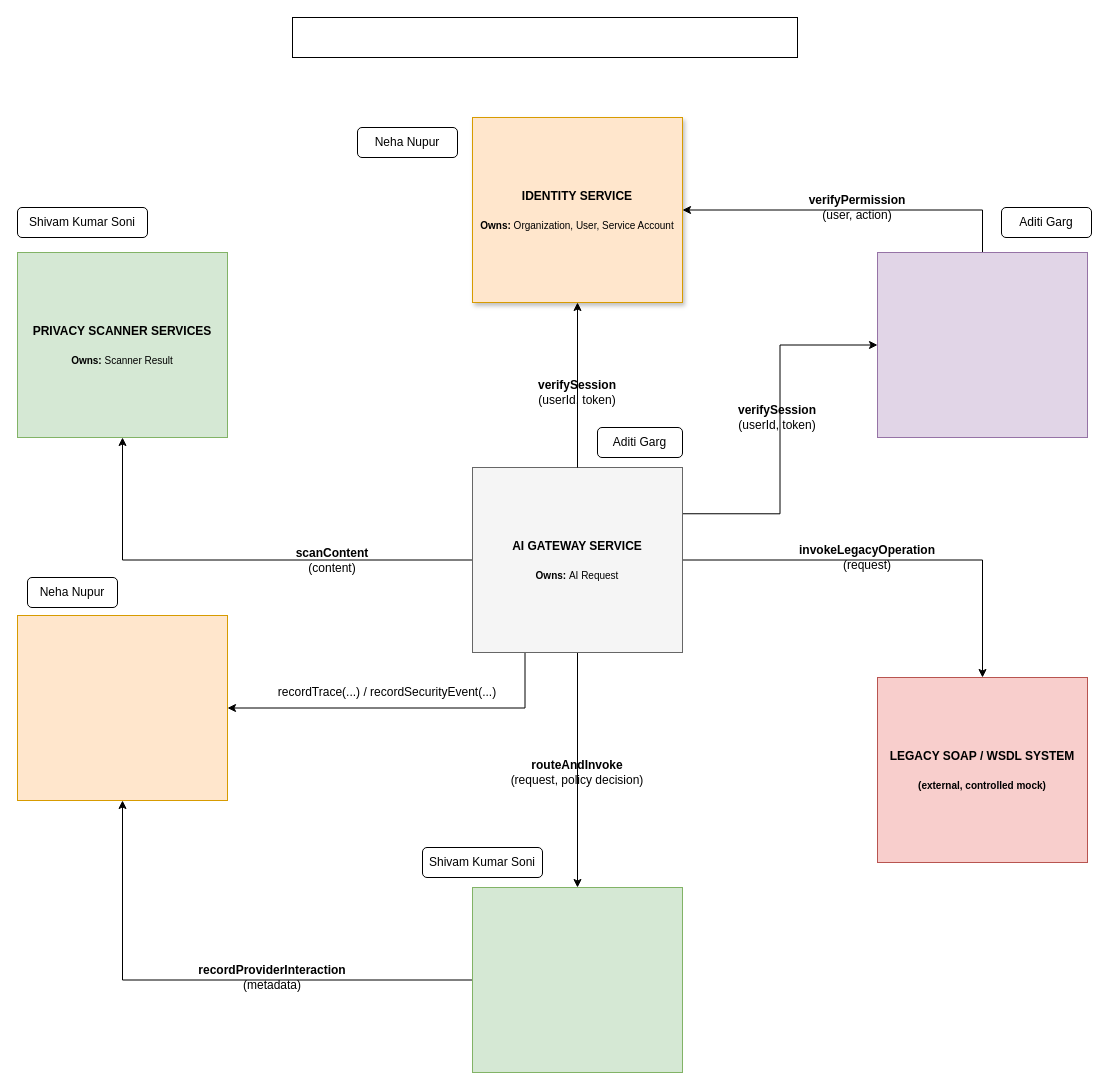
Image size: 1109x1090. Some labels were removed from this diagram. The shapes that lost their labels are listed below. From the top down, each one's centre as x and y in pixels, then its label:
At pixel 545 37: "CS543_Group7_AegisAiServicesDiagram".
At pixel 982 345: "POLICY & APPROVAL SERVICE Owns: Policy, Approval".
At pixel 122 707: "SECURITY & AUDIT SERVICE Owns: Security Event (+ Mongo: traces, audit events)".
At pixel 577 979: "MODEL & RROVIDER SERVICE Owns: Provider, Model".
